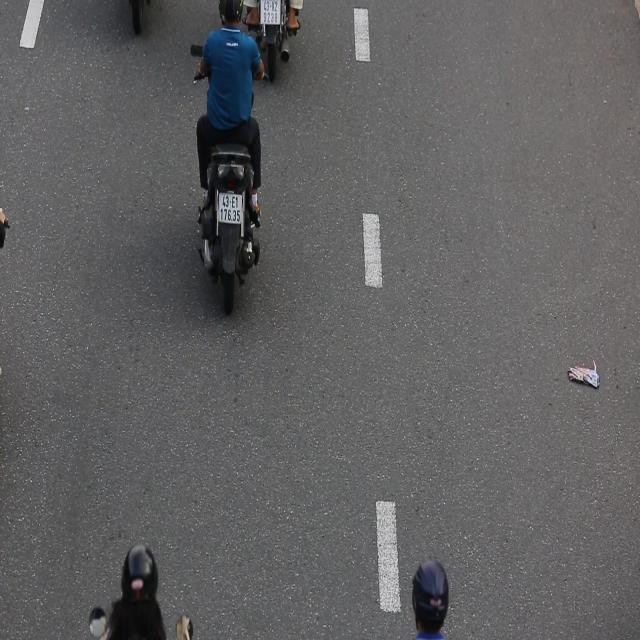motorbike: (189, 0, 282, 334)
